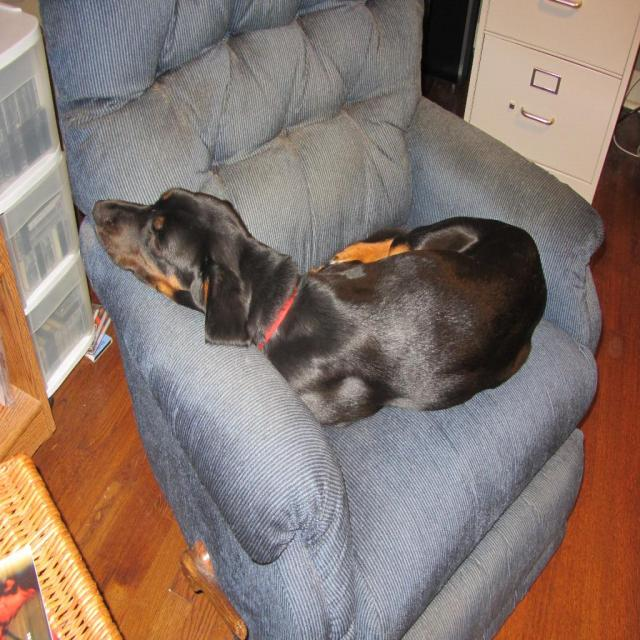Handle: (520, 90, 568, 137)
chair: (55, 16, 595, 622)
dog: (80, 174, 581, 398)
